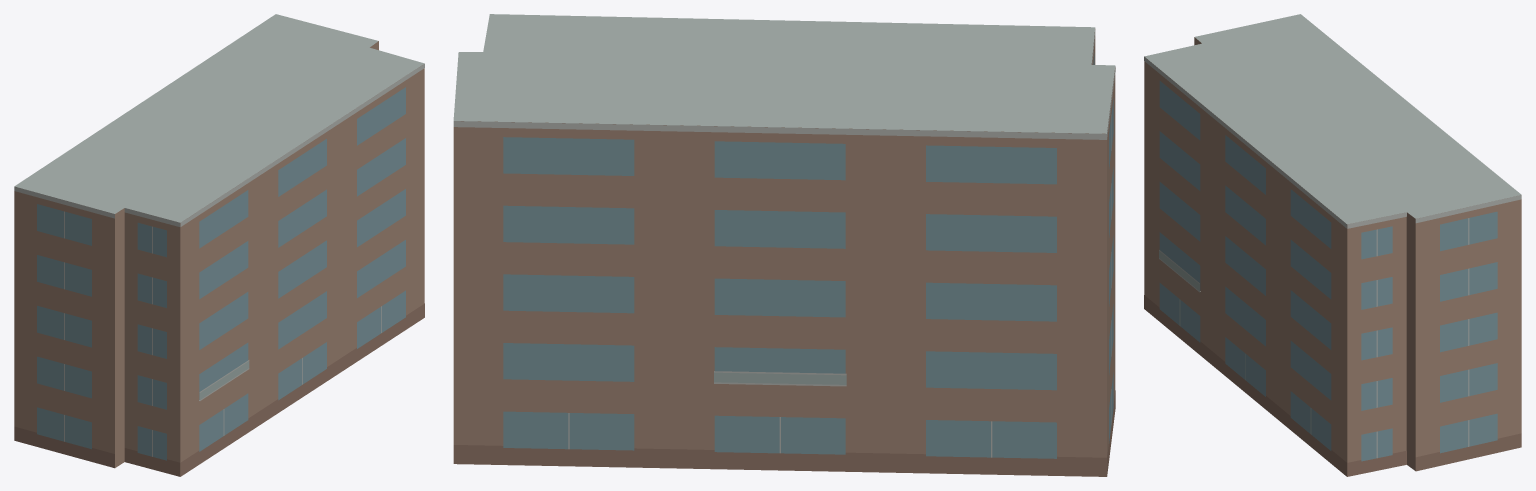
The model's file is survey-upis-32837291.glb.
The picture shows the model from 3 angles, left to right: view 1: azimuth 30°, elevation 25°; view 2: azimuth 150°, elevation 25°; view 3: azimuth 270°, elevation 25°; orthographic projection. The views are drawn at different scales.
Parts seen in each view (by area): view 1: survey-upis-32837291.tmp; view 2: survey-upis-32837291.tmp; view 3: survey-upis-32837291.tmp.
Part boxes in pixels (<box>): survey-upis-32837291.tmp: <box>14,14,424,476</box>; survey-upis-32837291.tmp: <box>453,14,1115,476</box>; survey-upis-32837291.tmp: <box>1144,14,1521,476</box>.
Size of the model in its own units: 24.31 by 13.6 by 18.44.
